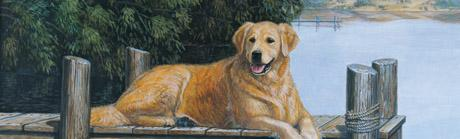dog: (87, 18, 327, 137)
